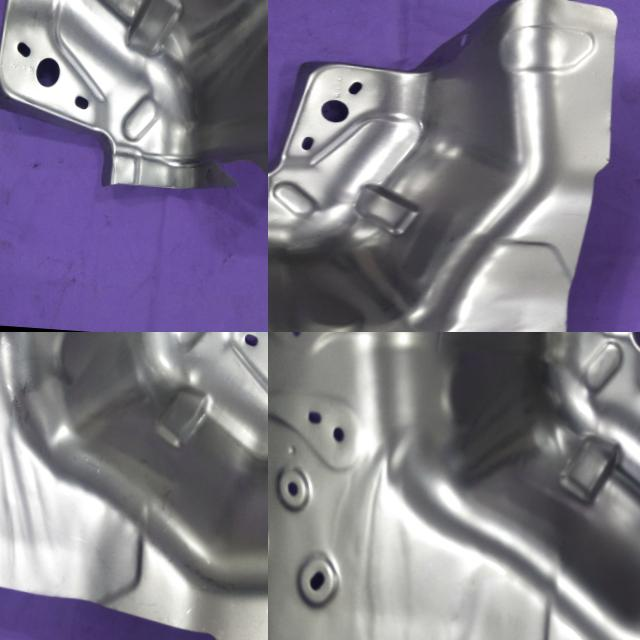Defect: (204, 151, 268, 196), (409, 332, 456, 372)
Healthy: (268, 0, 624, 332), (0, 332, 268, 640)
